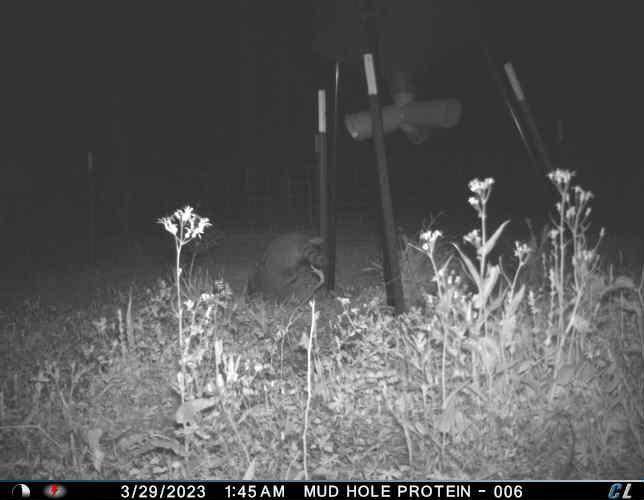Raccoon: (246, 230, 327, 315)
